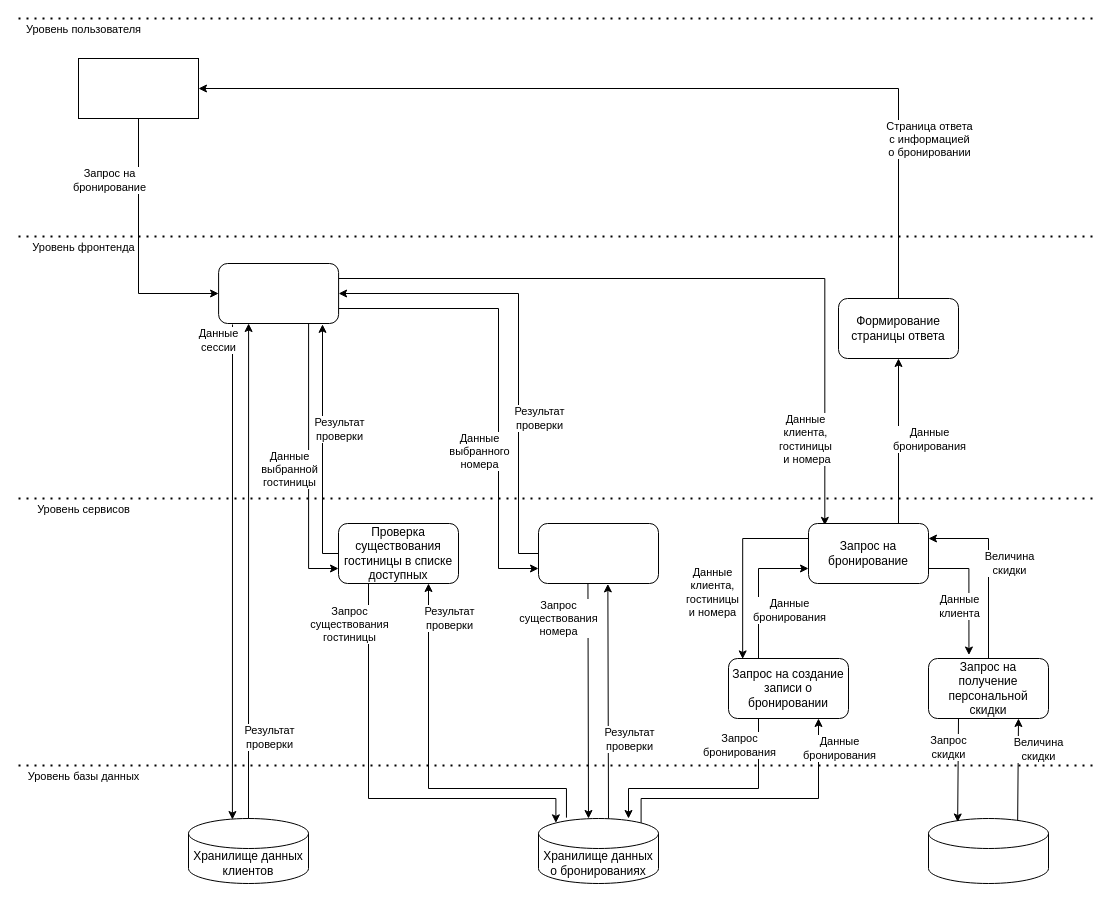
Image size: 1117x901. Some labels were removed from this diagram. The shapes that lost their labels are listed below. From the top down, each one's centre as x and y in pixels, then its label:
At (138,88): "Клиент".
At (278,293): "Проверка авторизации".
At (598,553): "Проверка существования номера в списке доступных".
At (988,851): "Хранилище данных пр-мы лояльности".
